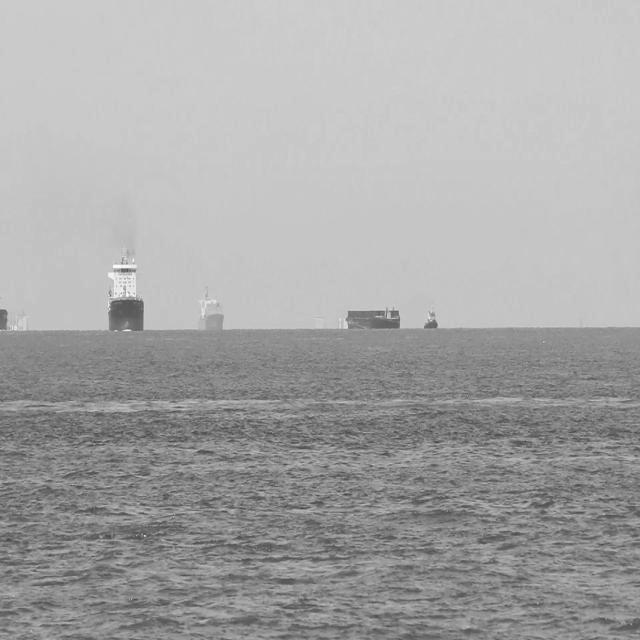ship: (105, 236, 146, 333), (341, 302, 404, 333), (194, 279, 226, 333), (420, 294, 439, 332)
